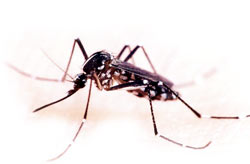mosquito: (19, 36, 220, 150)
